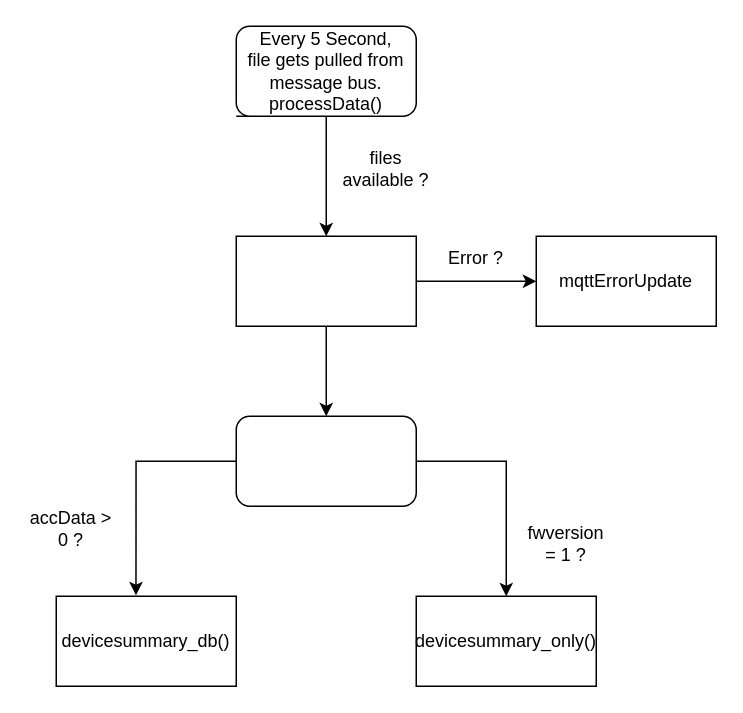
Image size: 743x713. Some labels were removed from this diagram. The box of each missing label's shape, as (x1, y1, x2, y2) in pixels:
devicesummary(): (235, 415, 416, 506)
mqttDataProcessing ( Read ENVR, MAGN,ULTRSND, ACC ): (235, 235, 416, 326)
